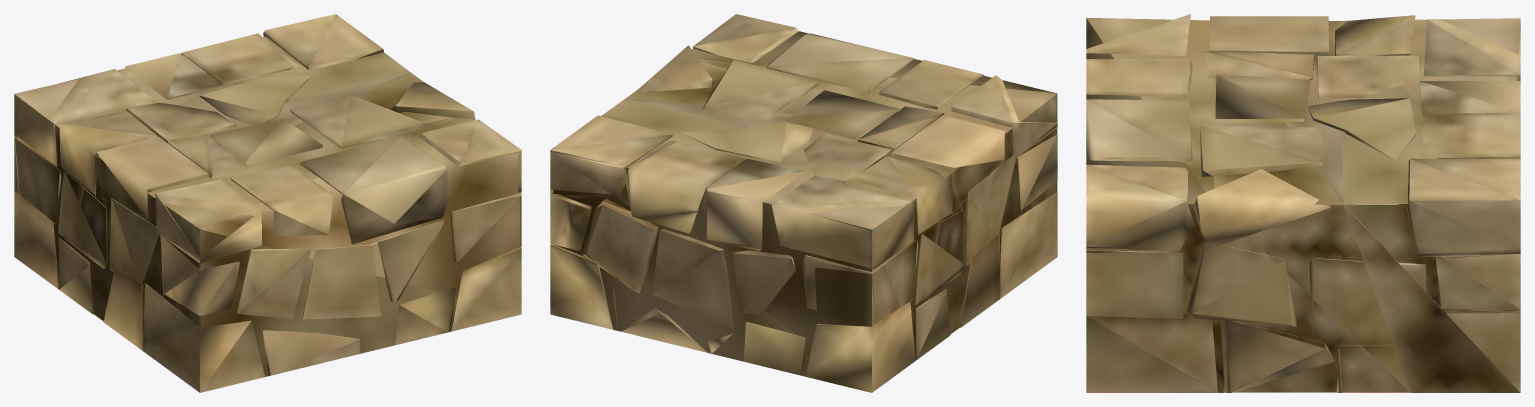
The model's file is block.lod1.glb.
3 views of the same model, side by side, from view 1: azimuth 30°, elevation 25°; view 2: azimuth 150°, elevation 25°; view 3: azimuth 270°, elevation 25° (orthographic). The views are drawn at different scales.
Bounding box in the file's own units: 2 × 1 × 2.
Materials: 1 (1 with a texture image).
